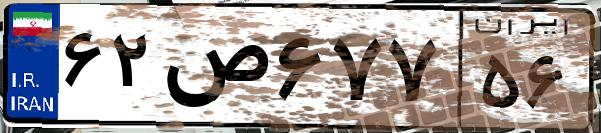2: (110, 28, 158, 98)
5: (475, 38, 525, 113)
6: (270, 28, 330, 110), (57, 26, 110, 100), (525, 38, 570, 115)
7: (385, 28, 445, 110), (330, 28, 385, 110)
ص: (158, 20, 270, 120)
